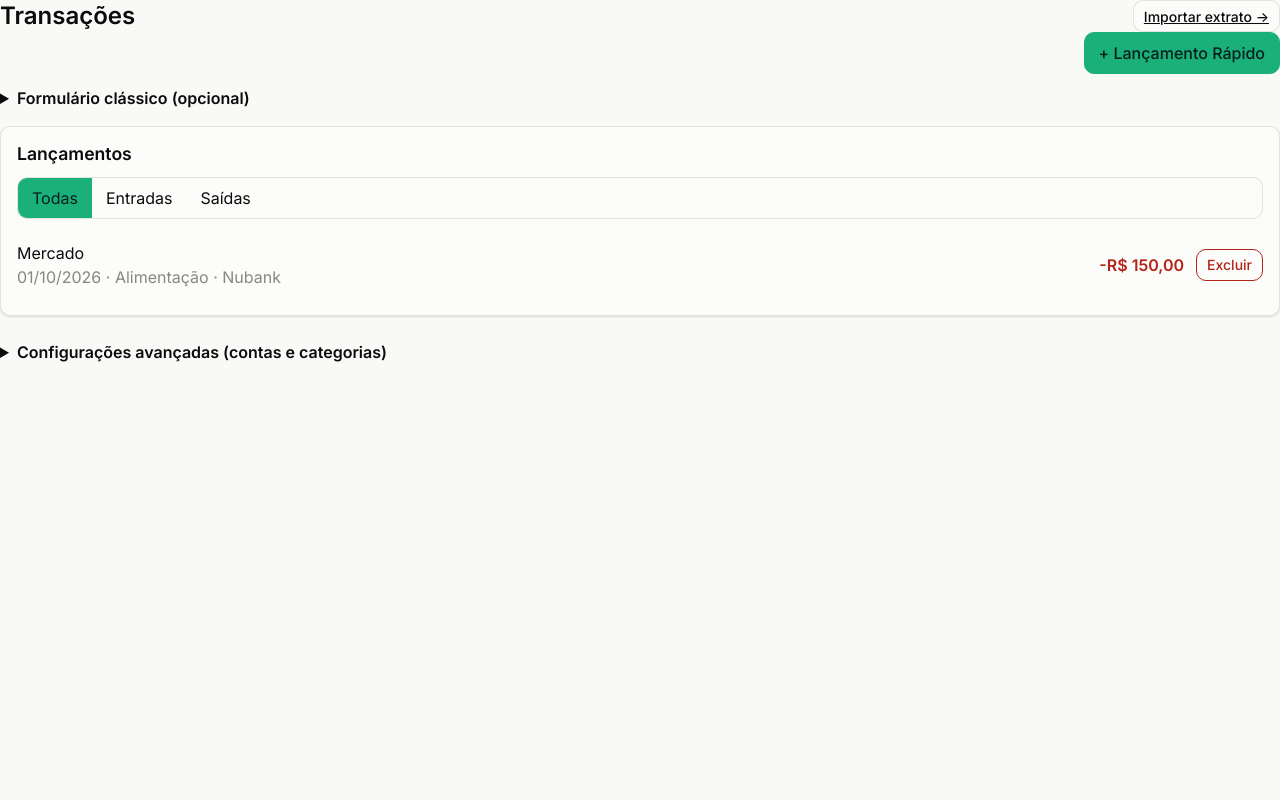
Test: TransactionsPage › reports failures when deleting
Click the button with aria-label "Excluir Mercado" at (1230,265), box 1196,249 -> 1263,281
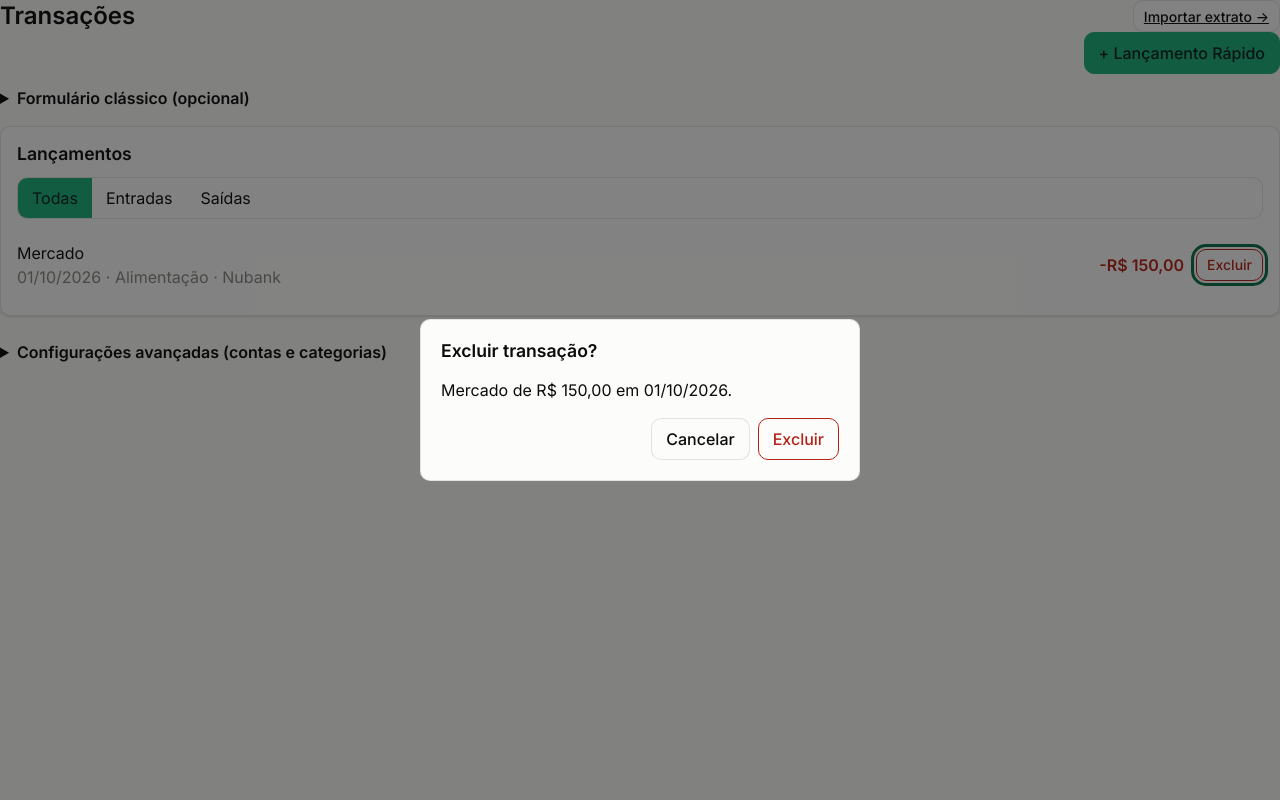
Click the button "Excluir" at (798,439), box 758,418 -> 839,460
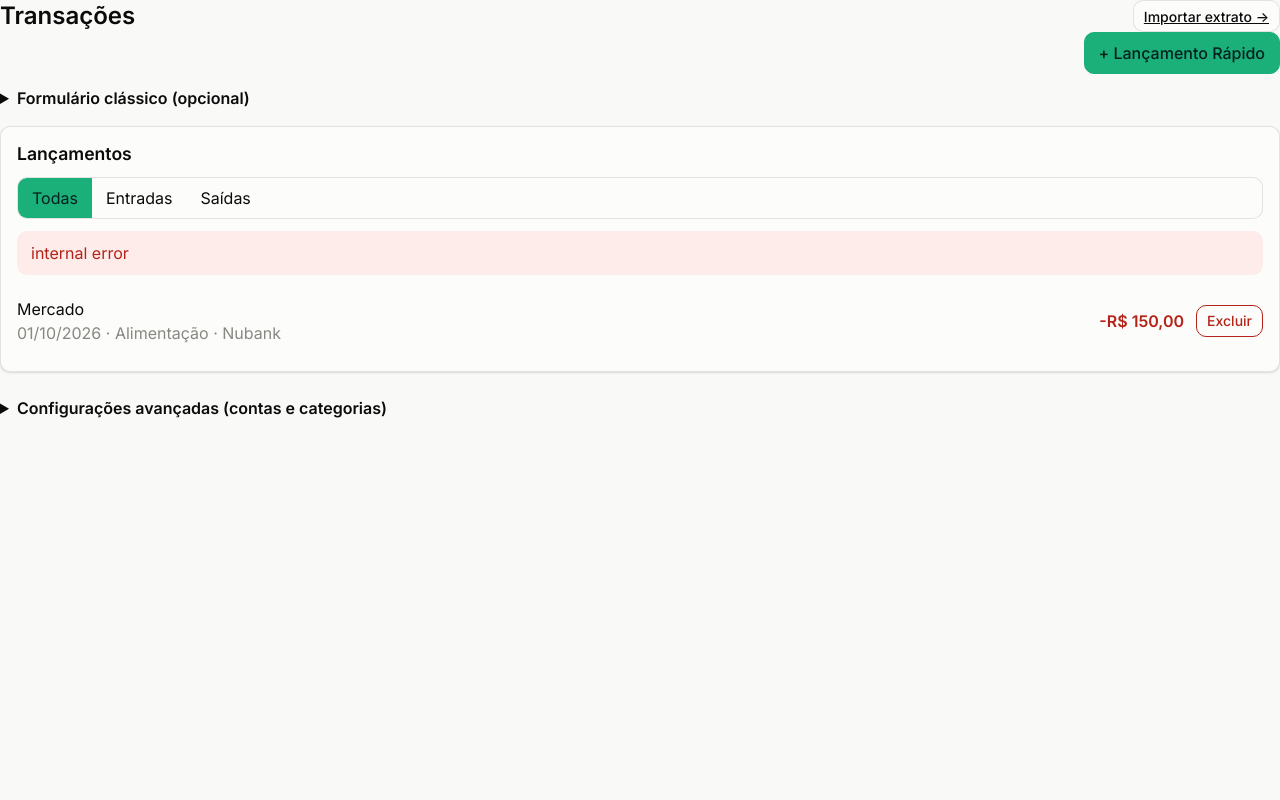
Check: the text "internal error" is shown, box 17,231 -> 1263,275
